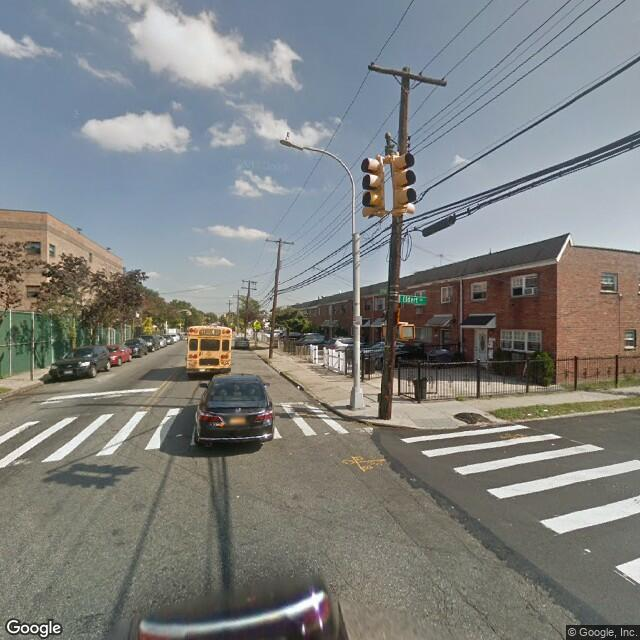litter: (288, 380, 316, 399), (529, 404, 557, 415), (520, 407, 536, 422)
